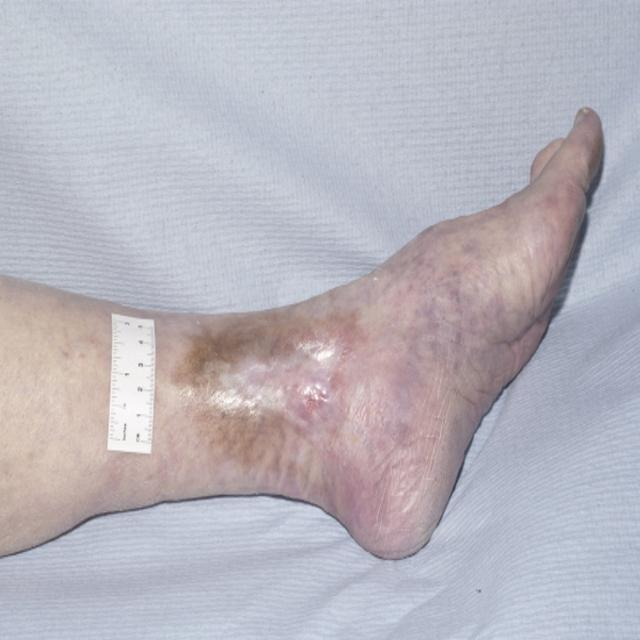wound: (184, 320, 359, 458)
